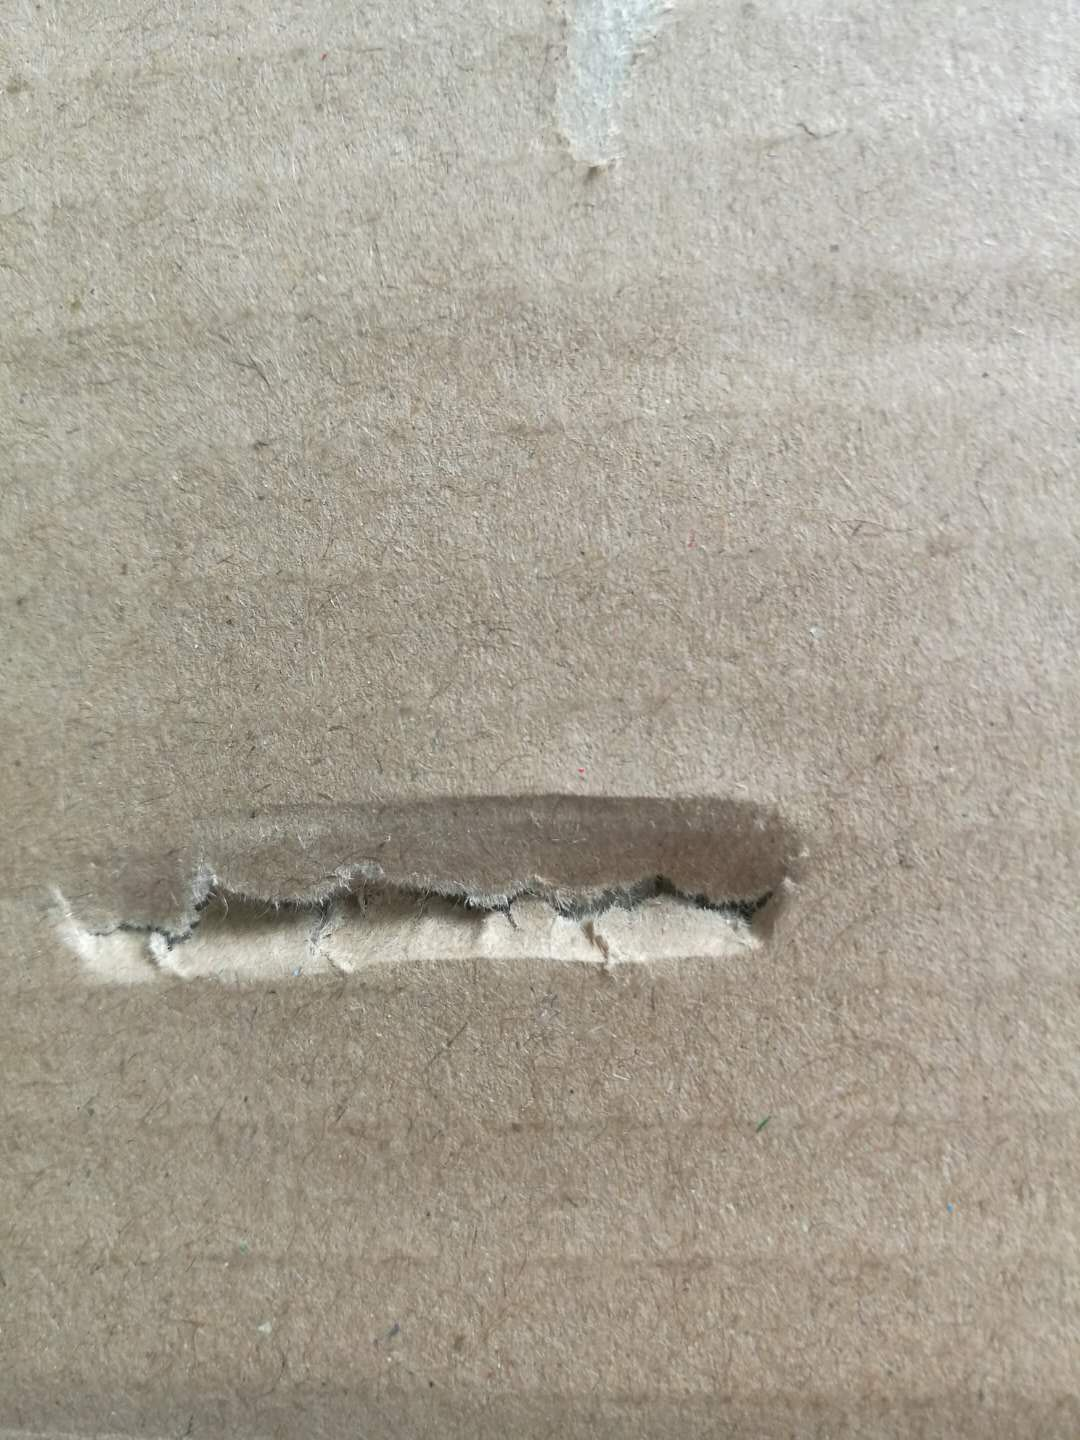defect: (20, 744, 894, 1059), (526, 2, 695, 196)
